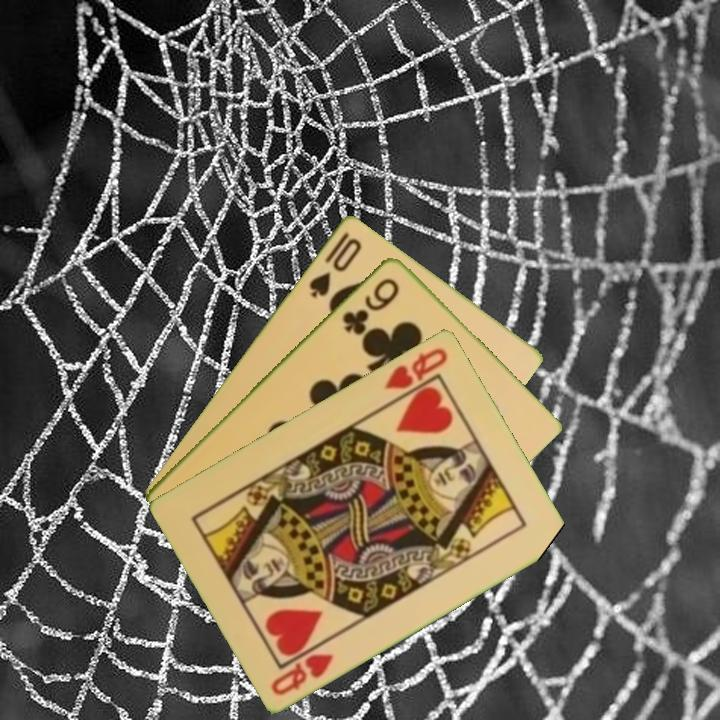10s: (305, 228, 365, 301)
9c: (338, 274, 403, 337)
Qh: (380, 343, 451, 392), (267, 649, 337, 698)
